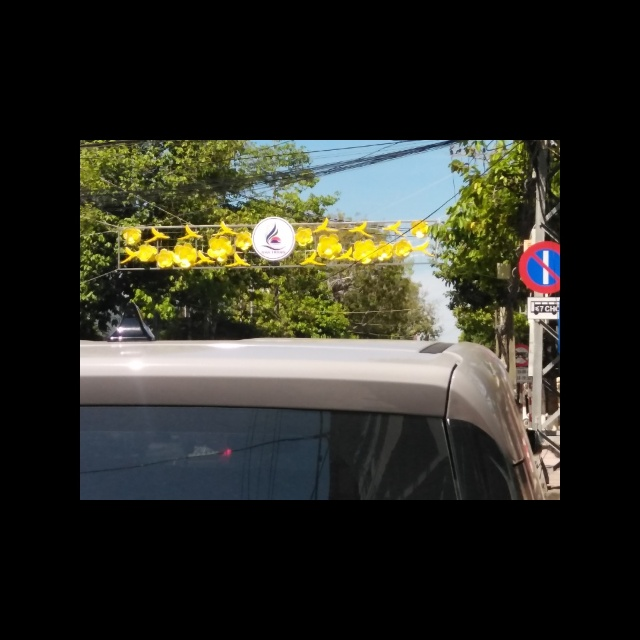Cấm đỗ xe ngày lẻ: (510, 239, 567, 294)
